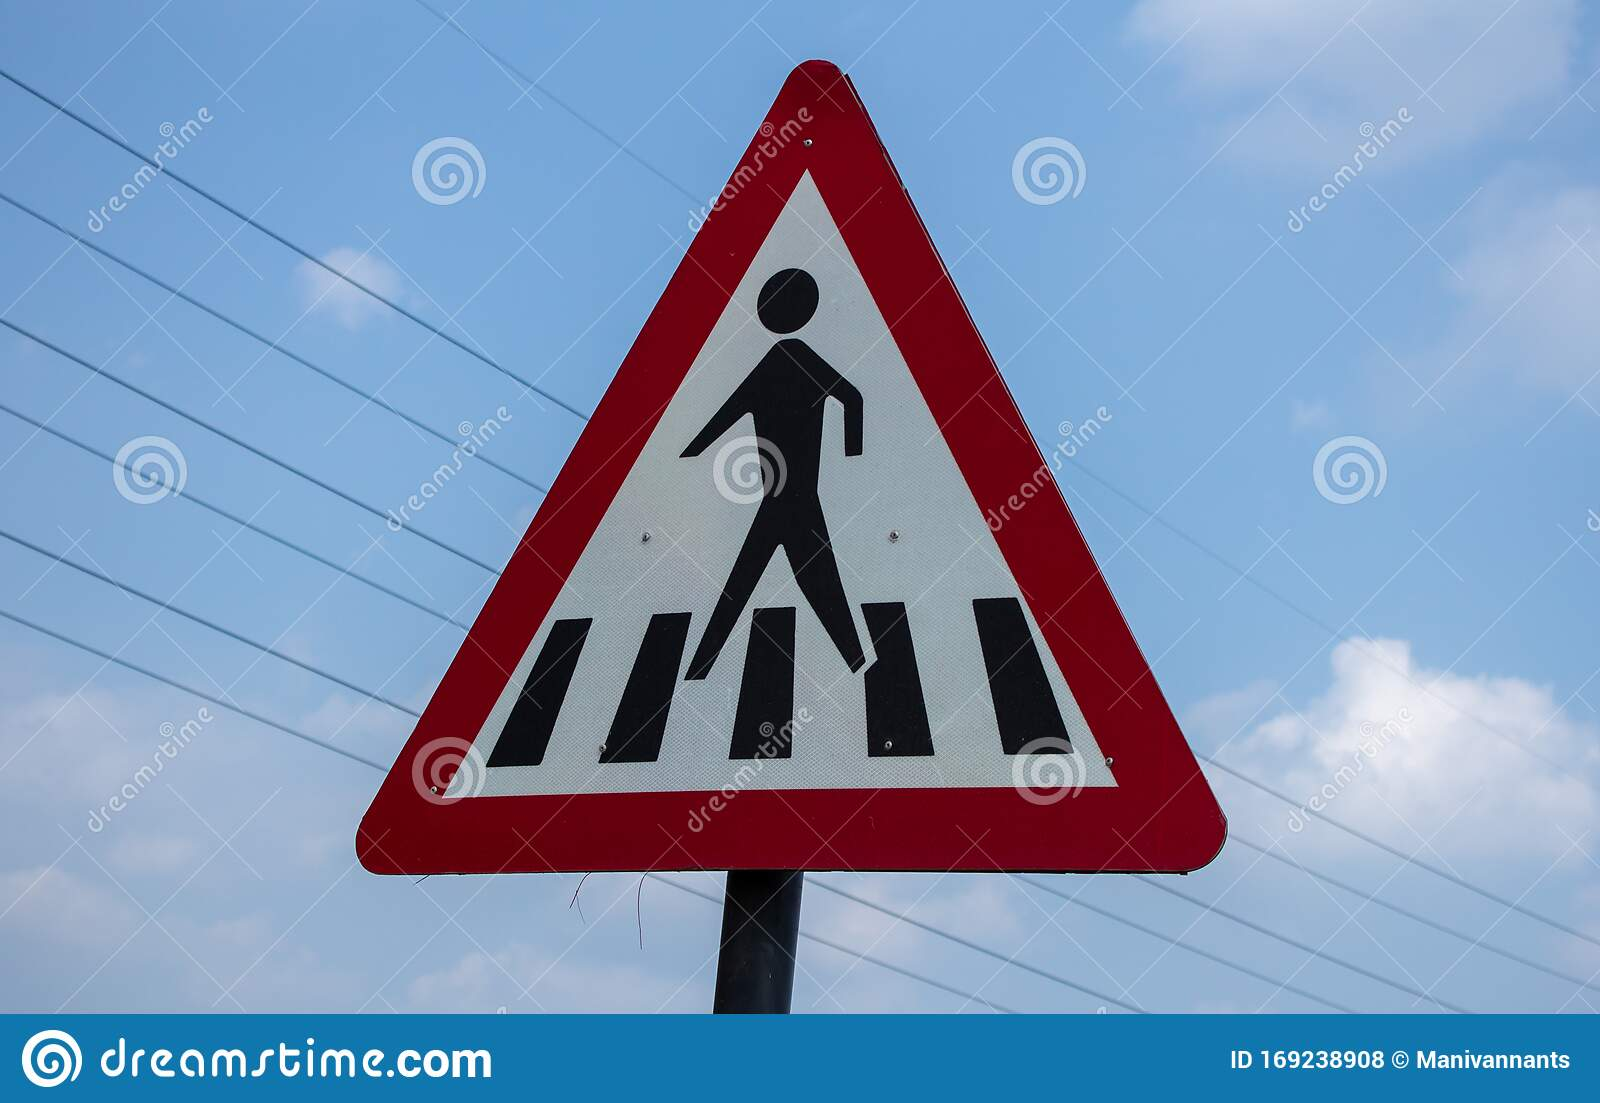pedestrian: (493, 169, 1105, 804)
